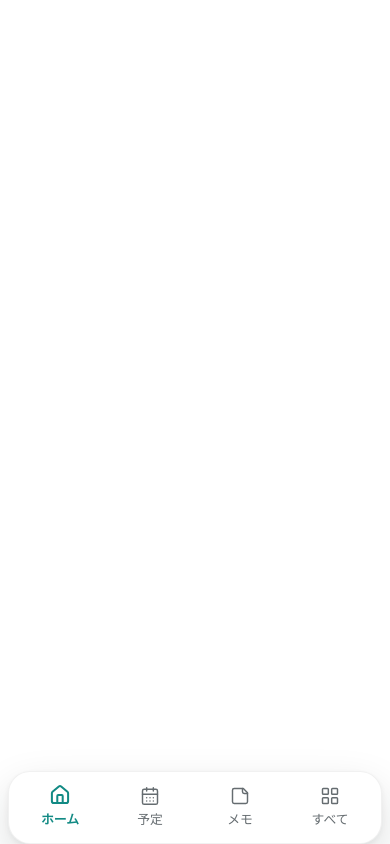
Test case: QuickActionBar — 隠した機能(設定の「使う機能」) › 隠した機能は、下のナビにも「すべて」の一覧にも出さない。ホームと「すべて」は残る
Click the button with aria-label "すべての機能": [330, 807] box top-left (287, 780), bottom-right (373, 835)
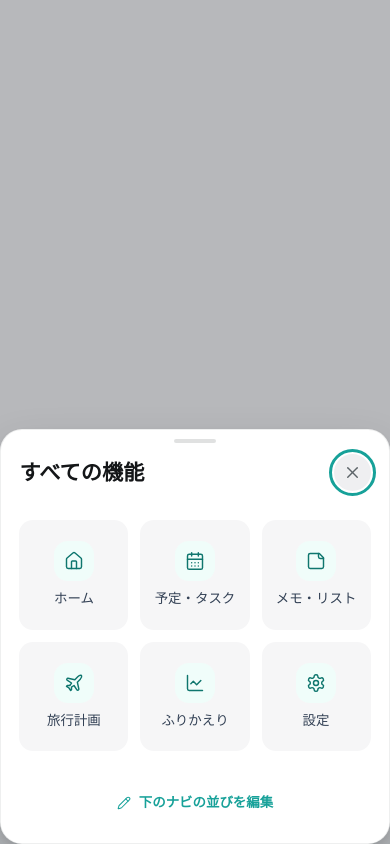
Expected: the link "旅行計画" is shown, top-left (19, 642), bottom-right (128, 751)
Expected: the link "設定" is shown, top-left (262, 642), bottom-right (371, 751)
